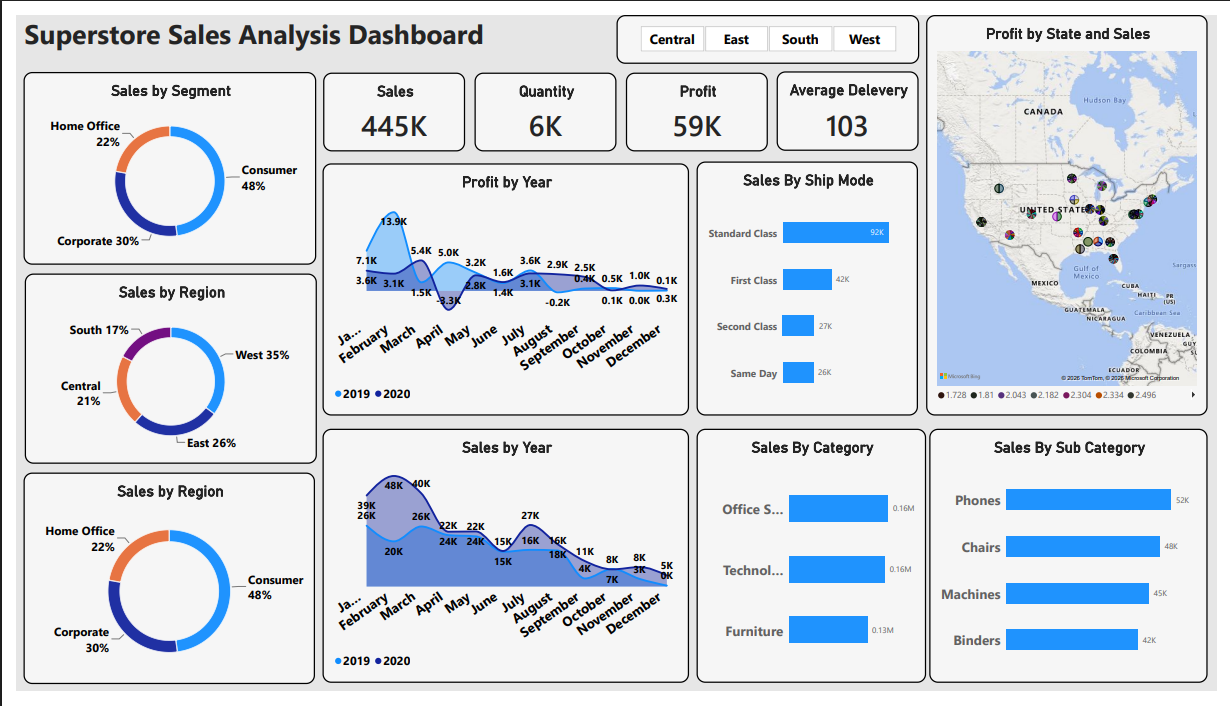

What the dashboard file says about the page in this screenshot:
{"tool":"powerbi","page":{"name":"Sales Analysis","canvas":[1920,1080],"ordinal":0},"visuals":[{"type":"clusteredBarChart","title":"Sales By Category","fields":{"Category":["SuperStore_Sales_Dataset.Category"],"Y":["Sum(SuperStore_Sales_Dataset.Sales)"]},"box":[1088.4,661,366.3,406.4],"z":0},{"type":"clusteredBarChart","title":"Sales By Sub Category","fields":{"Category":["SuperStore_Sales_Dataset.Sub-Category"],"Y":["Sum(SuperStore_Sales_Dataset.Sales)"]},"box":[1459.9,661,444.8,406.4],"z":1},{"type":"barChart","title":"Sales By Ship Mode","fields":{"Category":["SuperStore_Sales_Dataset.Ship Mode"],"Y":["Sum(SuperStore_Sales_Dataset.Sales)"]},"box":[1088.4,233.7,354.1,406.4],"z":2},{"type":"areaChart","title":"Sales by Year","fields":{"Category":["SuperStore_Sales_Dataset.Order Date.Variation.Date Hierarchy.Month"],"Series":["SuperStore_Sales_Dataset.Order Date.Variation.Date Hierarchy.Year"],"Y":["Sum(SuperStore_Sales_Dataset.Sales)"]},"box":[490.1,661,586,406.4],"z":3},{"type":"areaChart","title":"Profit by Year","fields":{"Category":["SuperStore_Sales_Dataset.Order Date.Variation.Date Hierarchy.Month"],"Series":["SuperStore_Sales_Dataset.Order Date.Variation.Date Hierarchy.Year"],"Y":["Sum(SuperStore_Sales_Dataset.Profit)"]},"box":[490.1,237.2,586,402.9],"z":4},{"type":"donutChart","title":"Sales by Segment","fields":{"Category":["SuperStore_Sales_Dataset.Segment"],"Y":["Sum(SuperStore_Sales_Dataset.Sales)"]},"box":[12.2,90.7,467.4,308.7],"z":6},{"type":"donutChart","title":"Sales by Region","fields":{"Category":["SuperStore_Sales_Dataset.Region"],"Y":["Sum(SuperStore_Sales_Dataset.Sales)"]},"box":[14,413.4,467.4,303.5],"z":8},{"type":"map","title":"Profit by State and Sales","fields":{"Category":["SuperStore_Sales_Dataset.State"],"Series":["SuperStore_Sales_Dataset.Sales"]},"box":[1454.7,0,450,640.1],"z":10},{"type":"slicer","fields":{"Values":["SuperStore_Sales_Dataset.Region"]},"box":[960.1,0,484.2,78.5],"z":11},{"type":"textbox","box":[0,0,761.6,59.7],"z":12},{"type":"cardVisual","title":"Sales","fields":{"Data":["Sum(SuperStore_Sales_Dataset.Sales)"]},"box":[490.9,91.8,227,126],"z":13},{"type":"cardVisual","title":"Quantity","fields":{"Data":["Sum(SuperStore_Sales_Dataset.Quantity)"]},"box":[733,91.8,227,126],"z":14},{"type":"cardVisual","title":"Profit","fields":{"Data":["Sum(SuperStore_Sales_Dataset.Profit)"]},"box":[975.1,91.8,227,126],"z":15},{"type":"cardVisual","title":"Average Delevery","fields":{"Data":["Avg(SuperStore_Sales_Dataset.AverageDelivery)"]},"box":[1215.6,90.2,227.1,126.9],"z":16},{"type":"donutChart","title":"Sales by Region","fields":{"Category":["SuperStore_Sales_Dataset.Segment"],"Y":["Sum(SuperStore_Sales_Dataset.Sales)"]},"box":[12.2,730.8,465.7,338.4],"z":17}]}

Visuals, with their boxes in screenshot pixels (x1, y1, x2, y2), scaled from the page's 1920x1080 canvas onto the 1230x706 screenshot:
"Sales By Category" clusteredBarChart: rect(697, 432, 932, 698)
"Sales By Sub Category" clusteredBarChart: rect(935, 432, 1220, 698)
"Sales By Ship Mode" barChart: rect(697, 153, 924, 418)
"Sales by Year" areaChart: rect(314, 432, 689, 698)
"Profit by Year" areaChart: rect(314, 155, 689, 418)
"Sales by Segment" donutChart: rect(8, 59, 307, 261)
"Sales by Region" donutChart: rect(9, 270, 308, 469)
"Profit by State and Sales" map: rect(932, 0, 1220, 418)
slicer - SuperStore_Sales_Dataset.Region: rect(615, 0, 925, 51)
textbox: rect(0, 0, 488, 39)
"Sales" cardVisual: rect(314, 60, 460, 142)
"Quantity" cardVisual: rect(470, 60, 615, 142)
"Profit" cardVisual: rect(625, 60, 770, 142)
"Average Delevery" cardVisual: rect(779, 59, 924, 142)
"Sales by Region" donutChart: rect(8, 478, 306, 699)
